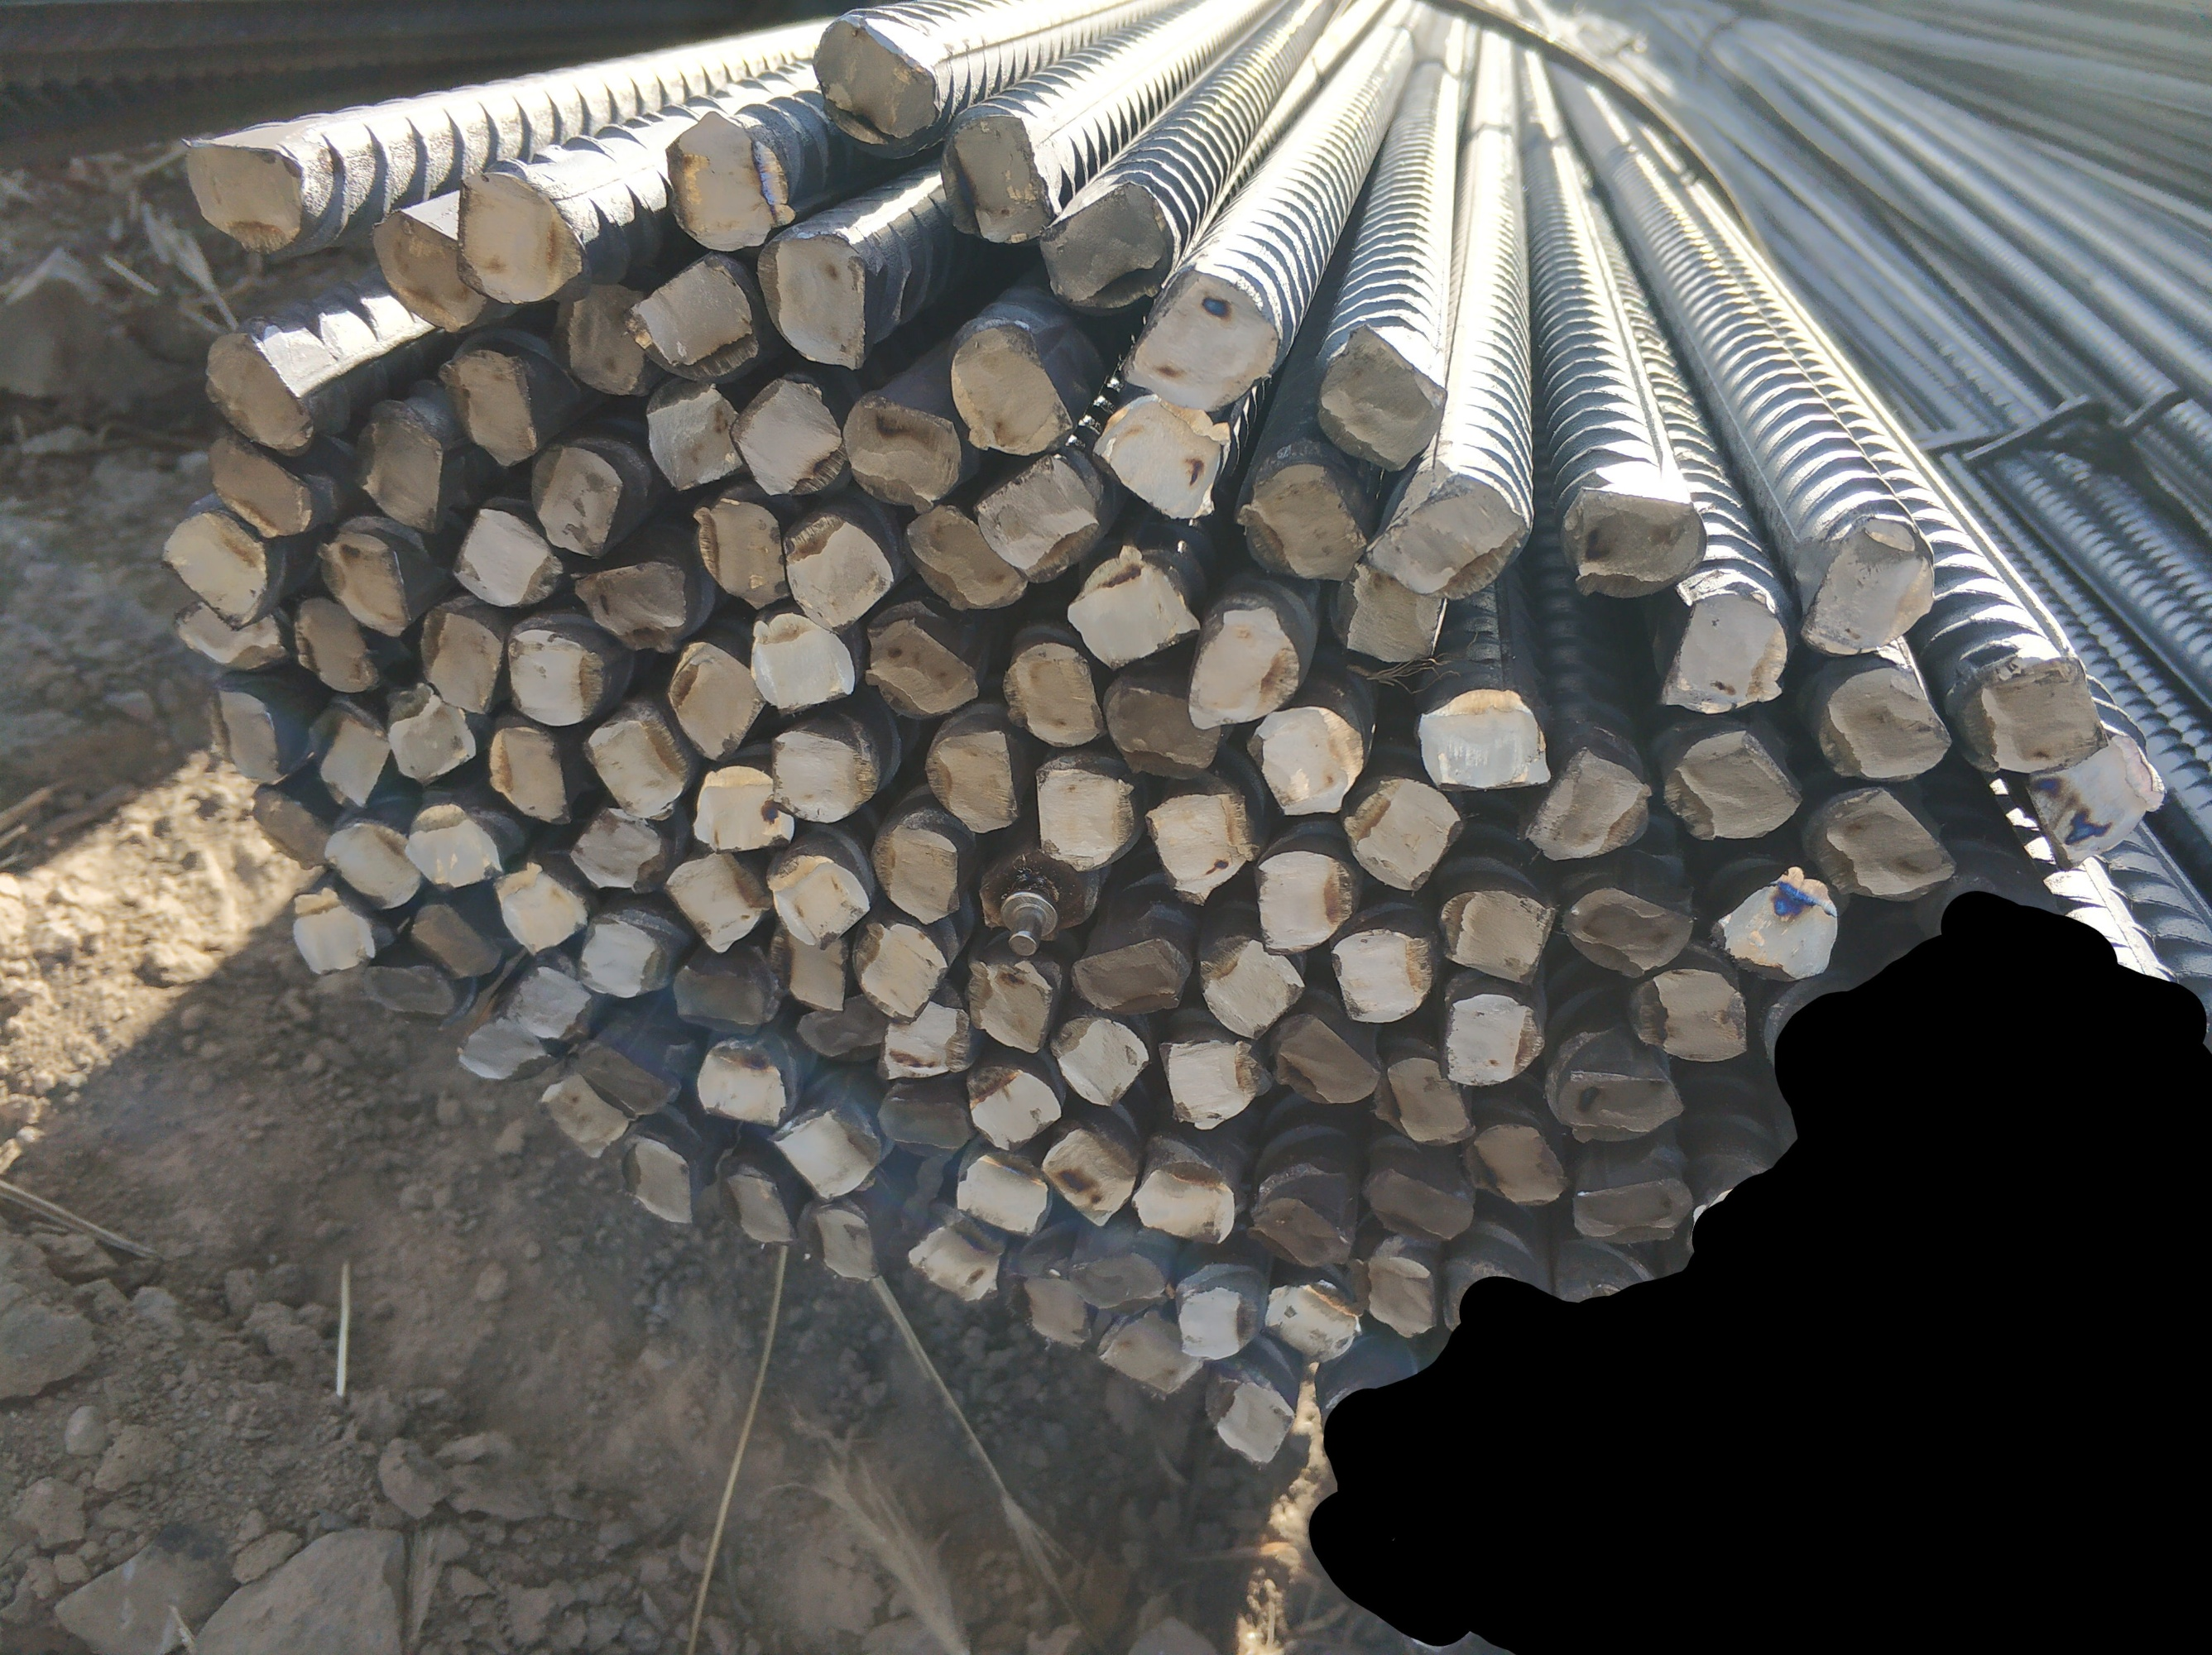rebar: (1123, 269, 1284, 409), (1795, 509, 1943, 659), (2030, 716, 2167, 874), (1366, 473, 1531, 603), (806, 7, 942, 162), (659, 111, 799, 254), (1317, 322, 1449, 473), (1036, 181, 1182, 315), (452, 163, 586, 308), (1802, 781, 1953, 904), (1965, 647, 2109, 775), (1095, 395, 1235, 525), (945, 315, 1074, 457), (1557, 483, 1710, 602), (937, 101, 1060, 245), (1067, 541, 1202, 671), (754, 223, 869, 376), (1658, 586, 1791, 716), (627, 257, 763, 386), (1546, 1026, 1687, 1147), (975, 449, 1100, 584), (1818, 662, 1955, 786), (372, 200, 492, 339), (182, 129, 311, 257), (1661, 723, 1802, 840), (1234, 462, 1368, 584), (1715, 864, 1845, 986), (1520, 742, 1652, 862), (839, 386, 961, 513), (728, 374, 846, 501), (156, 504, 273, 633), (1187, 603, 1301, 732), (198, 330, 313, 457), (1341, 775, 1461, 894), (902, 504, 1030, 614), (1142, 788, 1256, 909), (1418, 688, 1552, 793), (1246, 706, 1371, 817), (784, 506, 895, 629), (447, 499, 565, 614), (438, 341, 544, 468), (1560, 883, 1694, 982), (860, 610, 980, 720), (1628, 960, 1750, 1066), (553, 278, 657, 402), (521, 438, 626, 562), (349, 407, 447, 537), (1435, 885, 1560, 986), (575, 556, 695, 661), (667, 640, 768, 763), (1192, 932, 1307, 1040), (198, 433, 315, 539), (1328, 560, 1446, 664), (693, 497, 796, 617), (1102, 680, 1223, 781), (999, 640, 1109, 751), (766, 725, 884, 827), (1034, 758, 1136, 874), (645, 377, 745, 494), (375, 671, 476, 788), (975, 848, 1102, 940), (584, 711, 690, 819), (672, 937, 784, 1040), (313, 522, 412, 636), (924, 723, 1023, 838), (1265, 1012, 1383, 1107), (747, 612, 857, 715), (1253, 848, 1355, 958), (763, 1102, 879, 1198), (504, 622, 610, 725), (662, 847, 765, 953), (1037, 1121, 1138, 1229), (765, 848, 871, 949), (1328, 928, 1437, 1026), (846, 918, 947, 1022), (1161, 1036, 1268, 1133), (1569, 1168, 1696, 1250), (1348, 1233, 1446, 1339), (283, 591, 377, 701), (191, 680, 285, 789), (306, 690, 391, 810), (867, 819, 964, 923), (1439, 991, 1545, 1087), (1044, 1015, 1152, 1109), (415, 602, 500, 720), (325, 815, 429, 911), (686, 763, 794, 855), (1091, 1307, 1202, 1396), (874, 980, 975, 1078), (1070, 934, 1187, 1017), (493, 857, 589, 958), (961, 956, 1062, 1052), (1262, 1274, 1364, 1368), (1133, 1156, 1239, 1246), (565, 1036, 679, 1120), (1463, 1121, 1571, 1210), (400, 796, 500, 888), (1359, 1166, 1477, 1245), (1204, 1372, 1298, 1467), (488, 723, 575, 826), (167, 598, 288, 671), (1246, 1193, 1359, 1271), (956, 1151, 1055, 1240), (695, 1036, 787, 1130), (1381, 1053, 1475, 1146), (963, 1060, 1060, 1149), (287, 887, 379, 977), (540, 1071, 631, 1161), (568, 807, 664, 892), (766, 925, 850, 1017), (1062, 1243, 1169, 1314), (905, 1224, 999, 1306), (1004, 1266, 1096, 1347), (792, 991, 888, 1067), (506, 965, 594, 1047), (1171, 1281, 1260, 1363), (250, 782, 332, 869), (410, 897, 497, 979), (719, 1156, 798, 1246), (579, 916, 659, 1000), (620, 1137, 695, 1224), (455, 1015, 547, 1085), (801, 1200, 879, 1281), (876, 1090, 973, 1154), (367, 956, 459, 1024)
